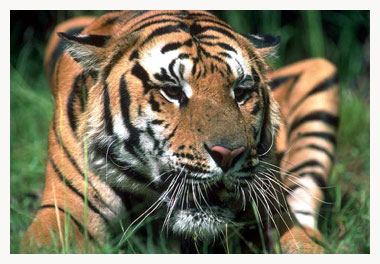Tigre: (52, 20, 310, 241)
